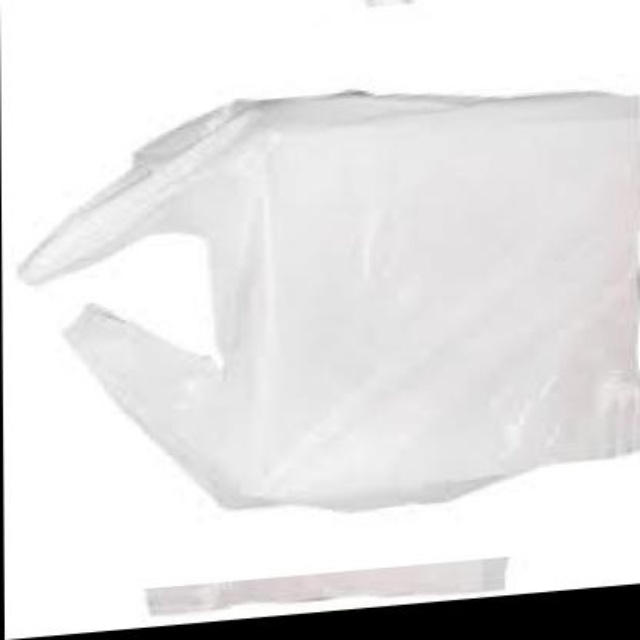trash: (20, 92, 638, 508)
